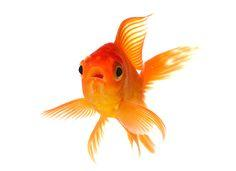goldfish: (62, 31, 182, 135)
